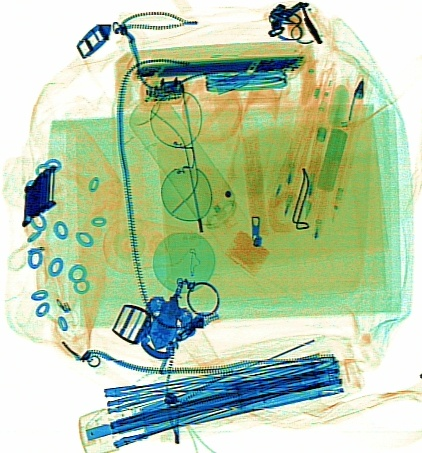pressure: (127, 92, 263, 261)
